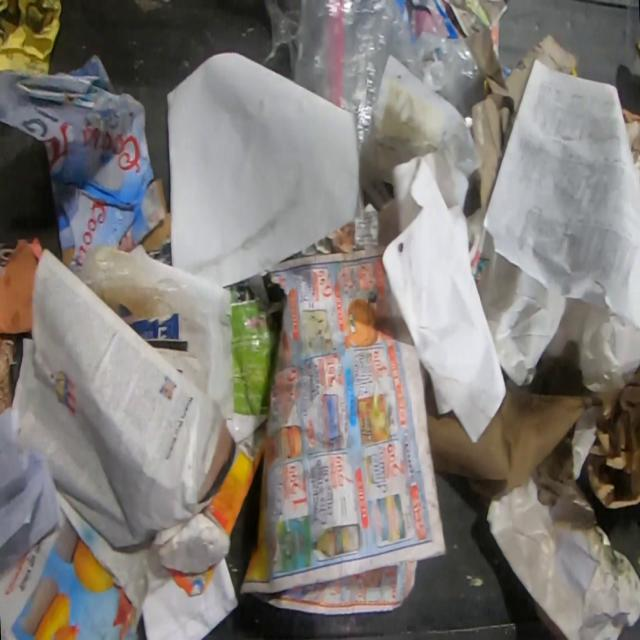cardboard: (0, 52, 172, 280), (463, 23, 579, 221), (156, 419, 267, 600), (10, 516, 144, 640), (622, 106, 640, 156)
soft_plastic: (260, 0, 497, 213), (80, 243, 198, 322)
